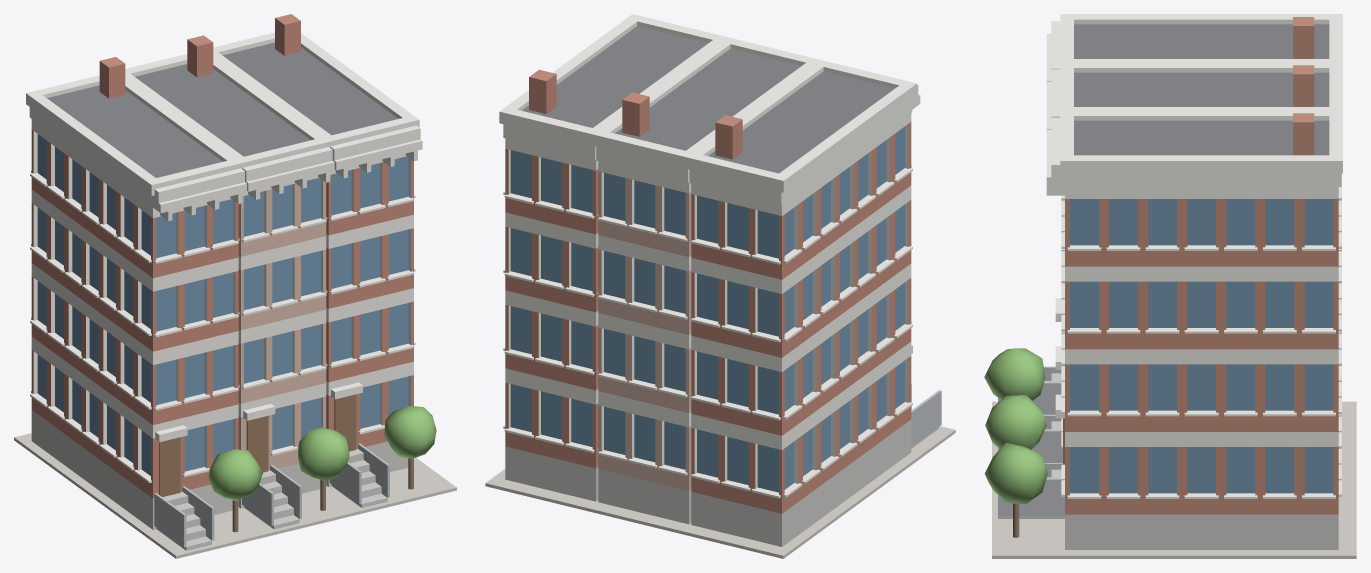
The picture shows the model from 3 angles, left to right: view 1: azimuth 30°, elevation 25°; view 2: azimuth 150°, elevation 25°; view 3: azimuth 270°, elevation 25°; orthographic projection. The views are drawn at different scales.
Parts seen in each view (by area): view 1: r_2_1_e; view 2: r_2_1_e; view 3: r_2_1_e.
Boxes of the visible parts, x1,y1,x2,y2 form: r_2_1_e: (14,14,456,558); r_2_1_e: (485,14,955,558); r_2_1_e: (984,14,1356,558).
Bounding box in the file's own units: 12 × 15.4 × 12.25.
